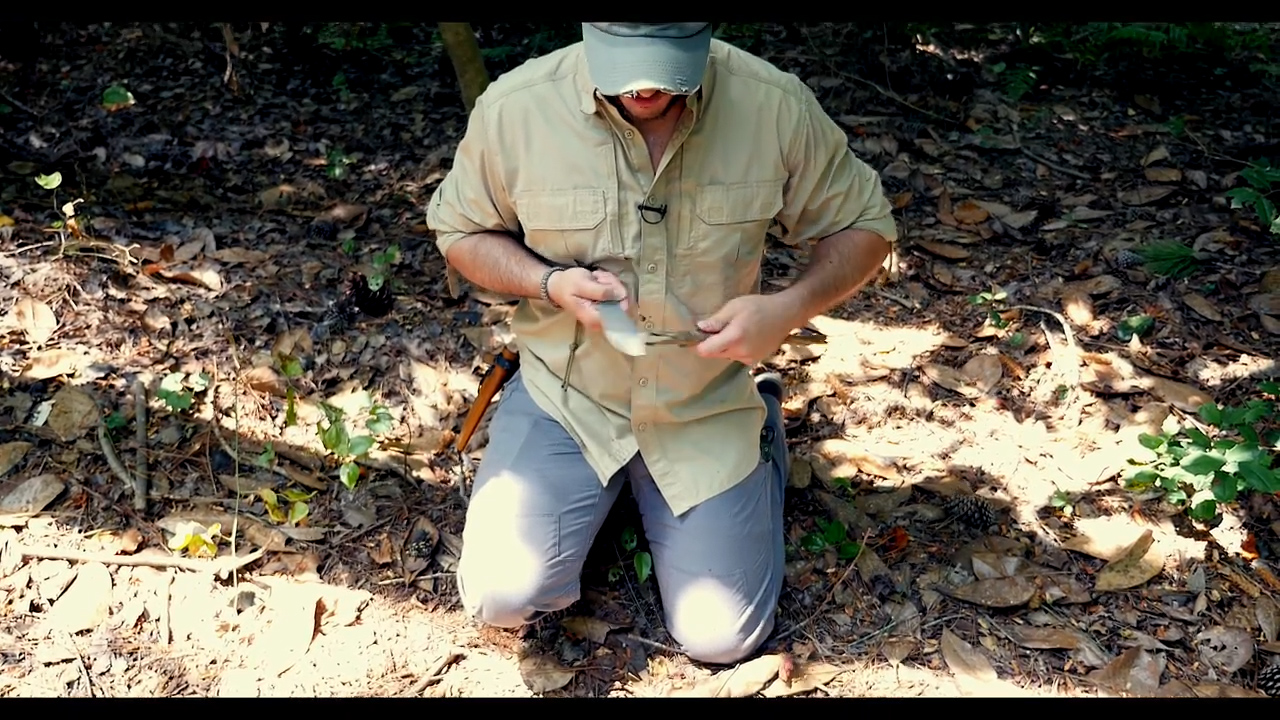knife: (557, 263, 661, 373)
